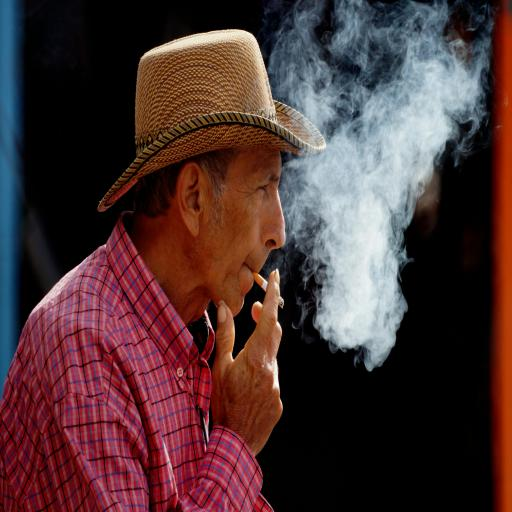asap rokok: (310, 124, 390, 310)
merokok: (224, 140, 305, 360)
